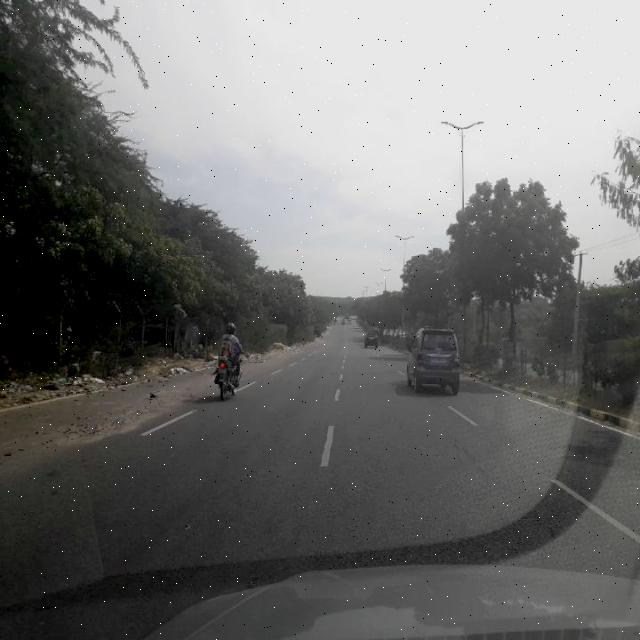D00: (436, 398, 562, 548)
